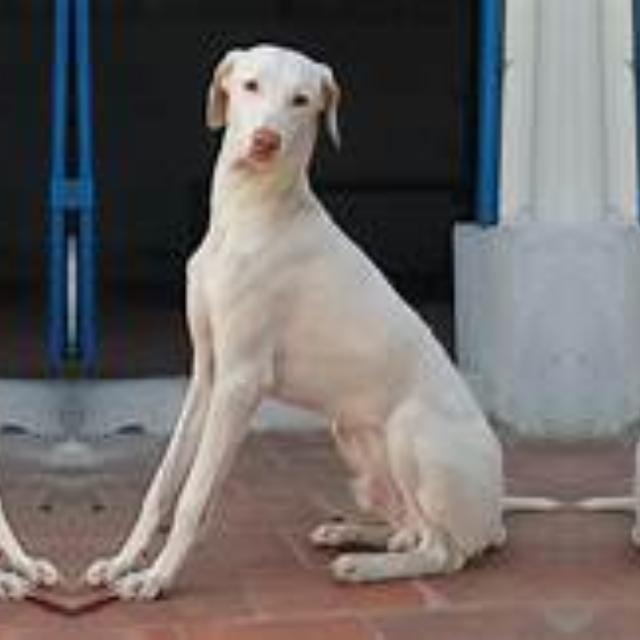dog: (91, 21, 540, 640), (0, 21, 50, 640), (597, 21, 640, 640)
